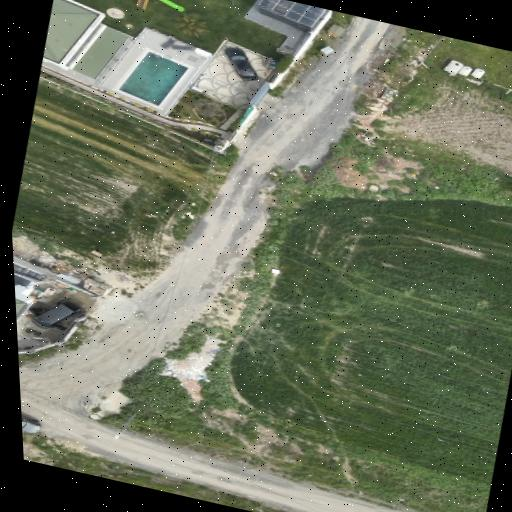car: (32, 300, 84, 328), (225, 47, 258, 79), (21, 414, 40, 432)
